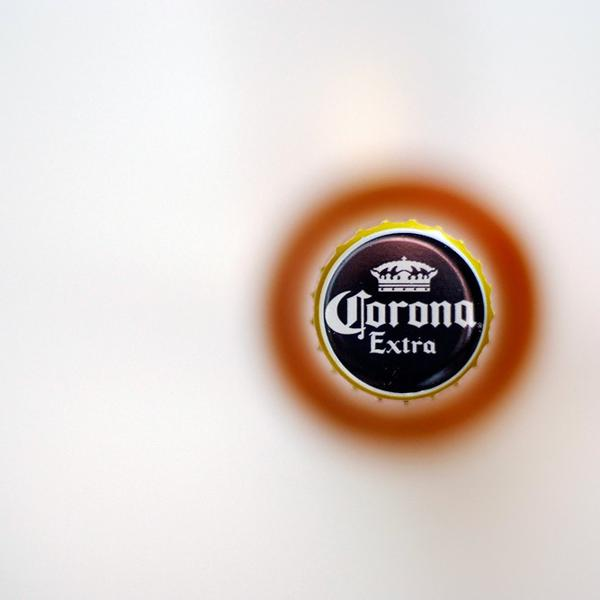corona: (309, 217, 496, 401)
